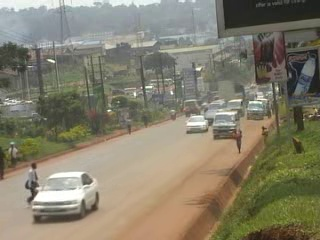Car: (29, 168, 101, 229), (182, 109, 211, 136), (180, 96, 206, 119), (203, 110, 220, 126)
Motorcycle: (168, 105, 178, 124)
